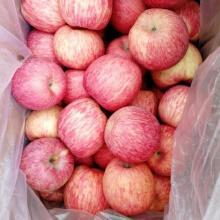apple: (128, 9, 190, 70), (103, 105, 161, 163), (84, 55, 142, 111), (101, 159, 155, 216), (18, 138, 73, 193), (10, 58, 67, 111), (57, 98, 108, 156), (149, 42, 201, 89), (62, 163, 108, 216), (52, 25, 104, 69), (144, 123, 175, 178), (107, 35, 146, 75), (60, 1, 113, 30), (156, 84, 190, 128), (27, 29, 65, 68), (22, 105, 63, 141), (20, 1, 66, 33), (109, 1, 145, 34)
